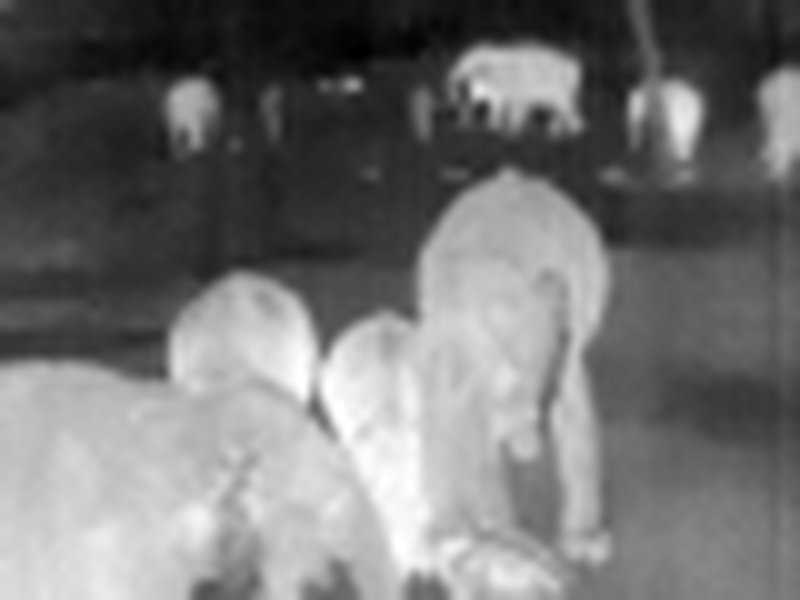elephant: (9, 174, 644, 600), (124, 33, 789, 167)
